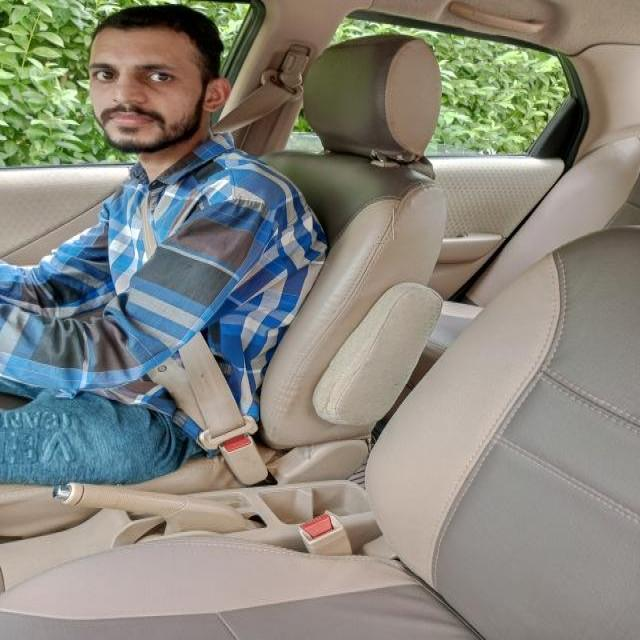seatbelt: (78, 176, 290, 513)
